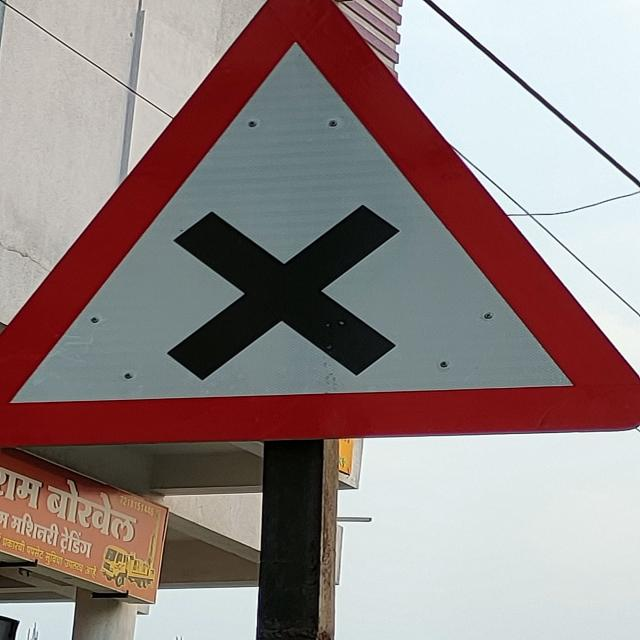CROSS_ROAD: (0, 0, 640, 440)
